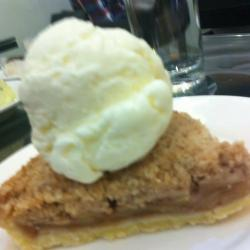apple_pie: (5, 108, 250, 247)
icecream: (19, 18, 186, 190)
